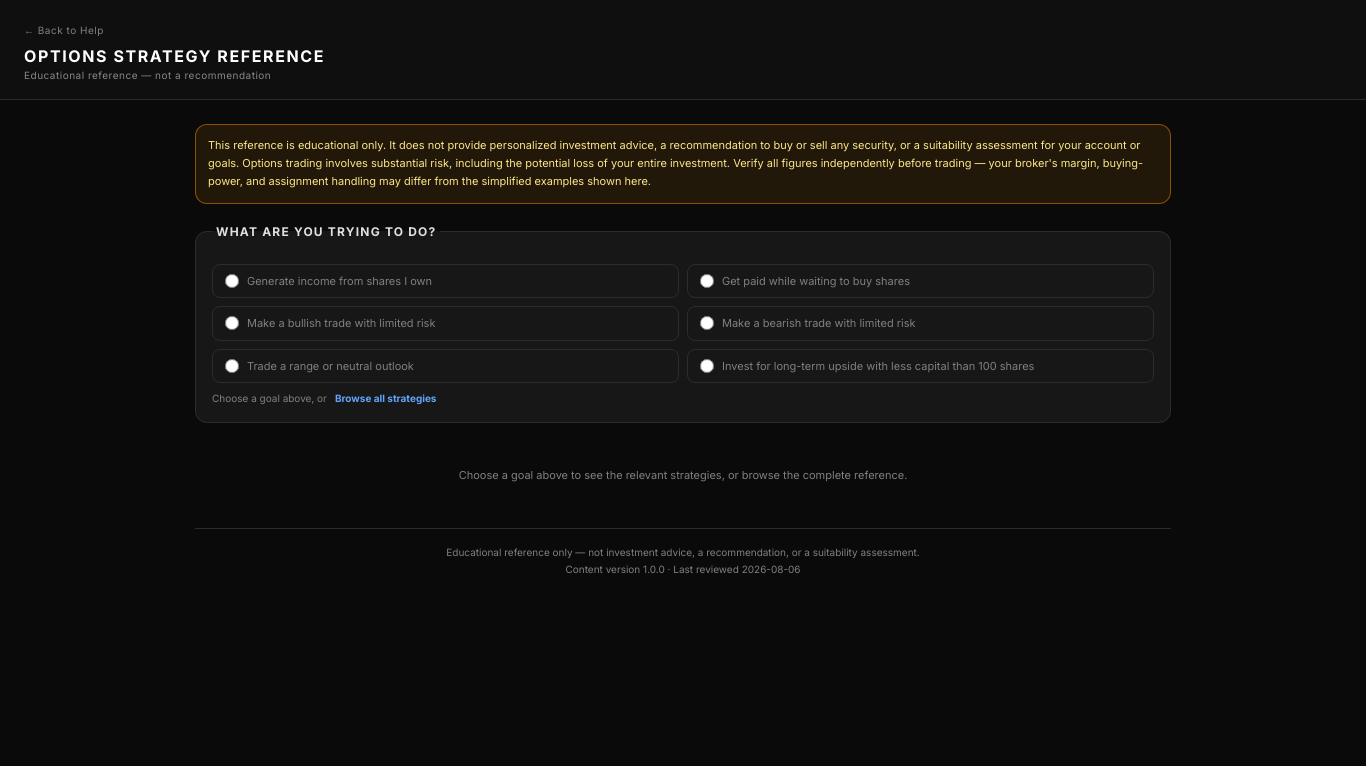
Test: HELP-0001: Options Strategy Reference page › focus restoration for every opening source (corrective pass item 4) › fallback: when the opener control no longer exists at all, focus lands on a documented fallback (comparison heading, results heading, or goal picker)
Click the button "Browse all strategies" at x=386, y=399, box left=335, top=391, right=436, bottom=406
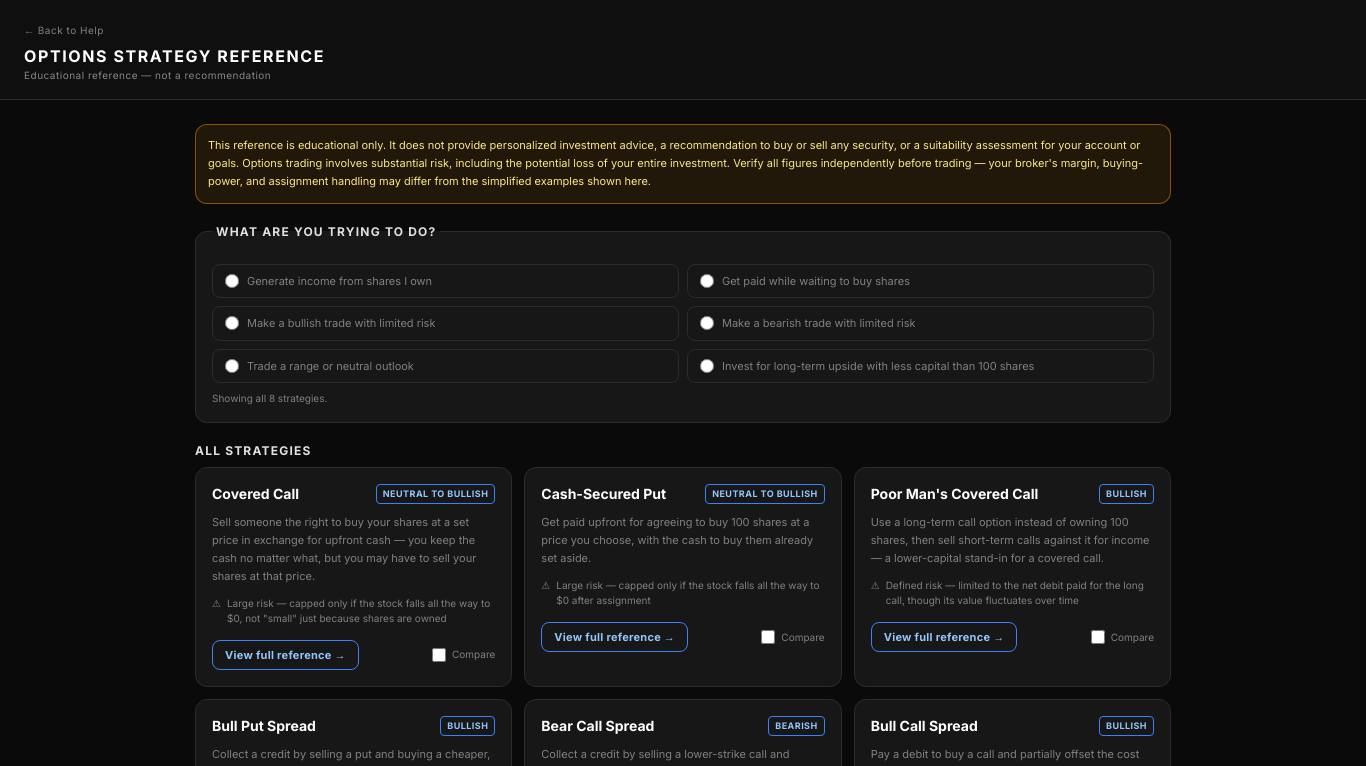
Click the checkbox named "Add Covered Call to comparison" at x=439, y=655, box left=432, top=648, right=446, bottom=662
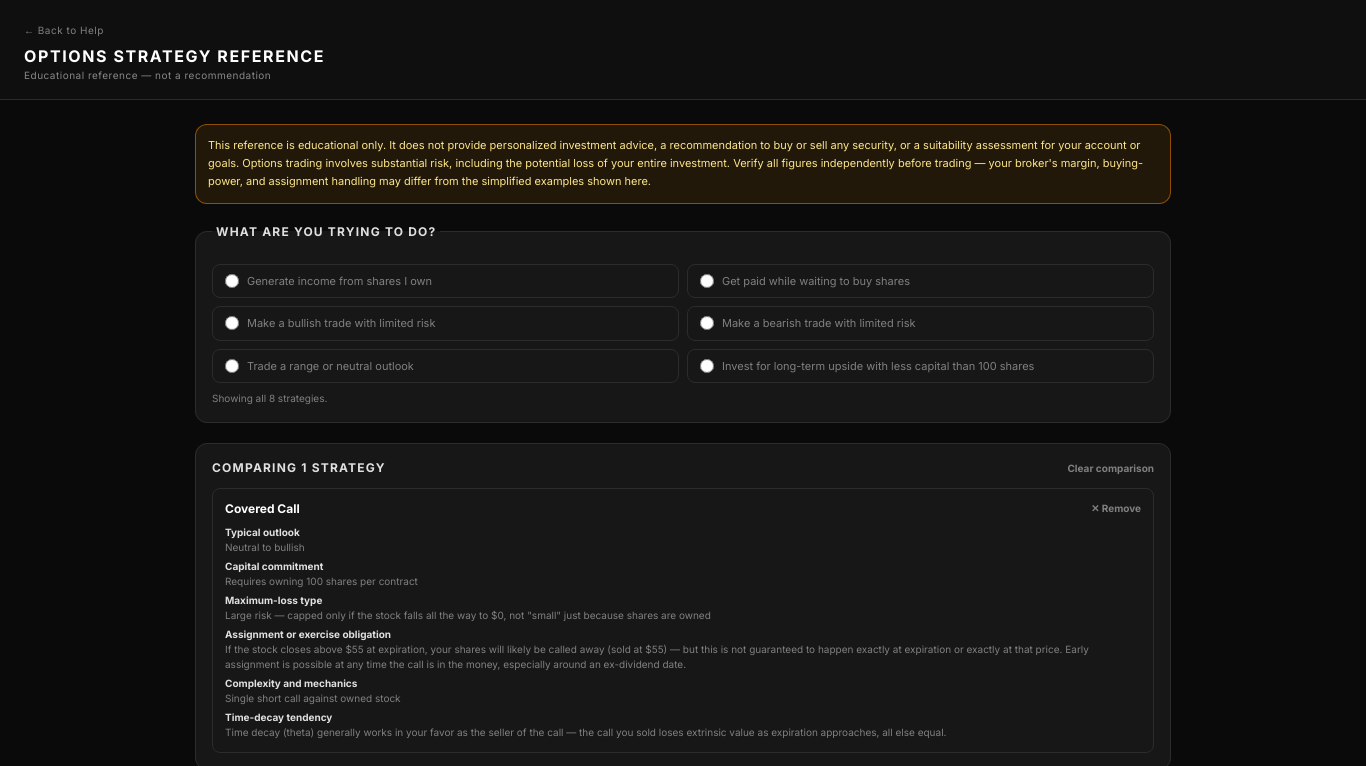
Click the button "Covered Call" at x=262, y=509, box left=225, top=501, right=300, bottom=517
(page scrolled)
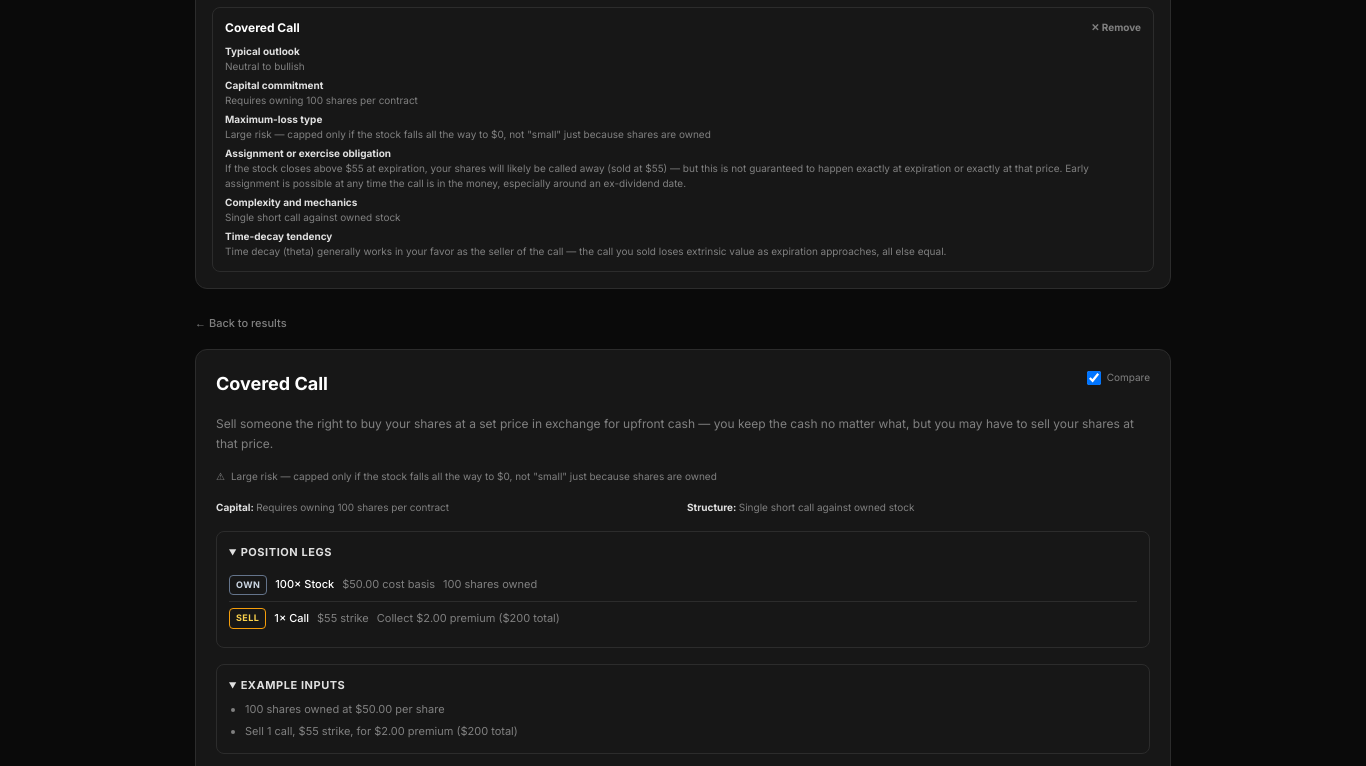
Expected: the heading "Covered Call" is shown, left=216, top=370, right=328, bottom=398
Click the checkbox named "Remove Covered Call from comparison" at x=1094, y=378, box left=1087, top=371, right=1101, bottom=385
(page scrolled)
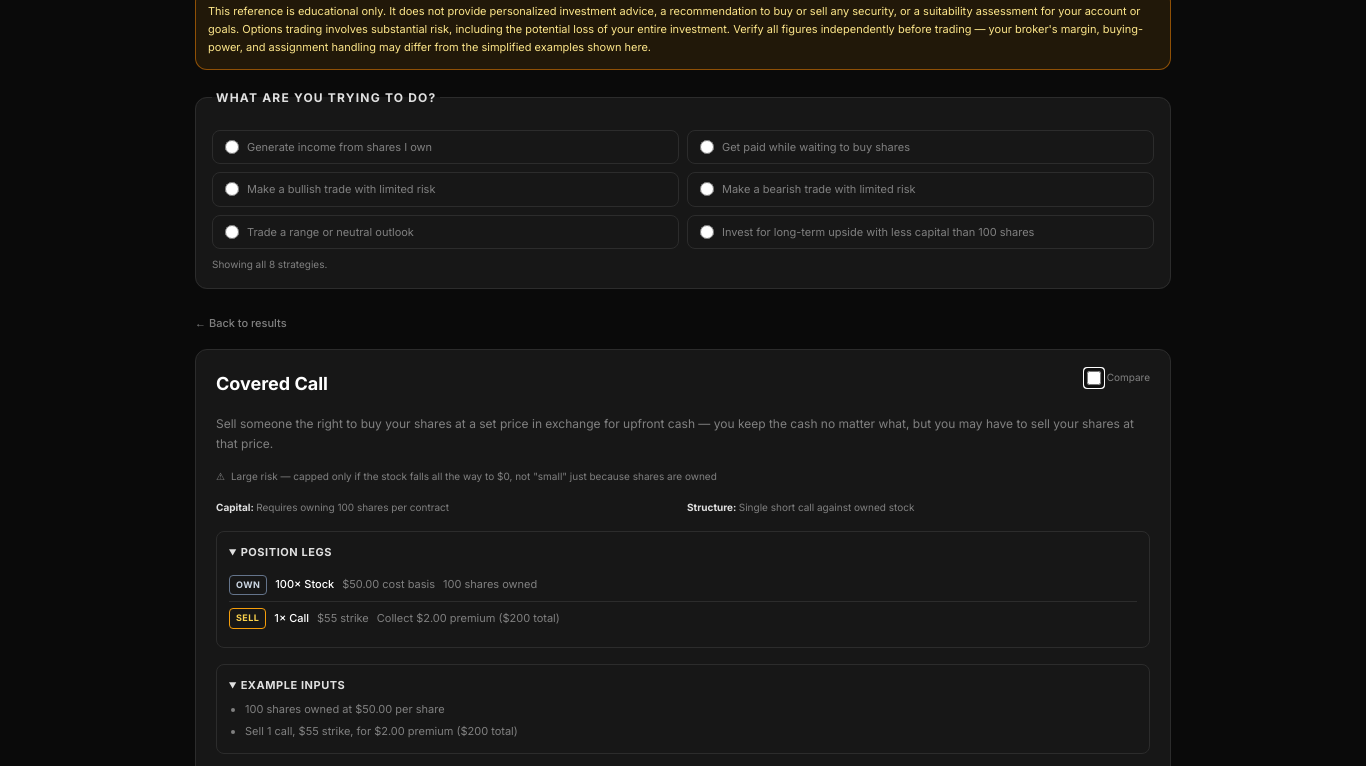
Click the button "← Back to results" at x=241, y=323, box left=195, top=315, right=287, bottom=332
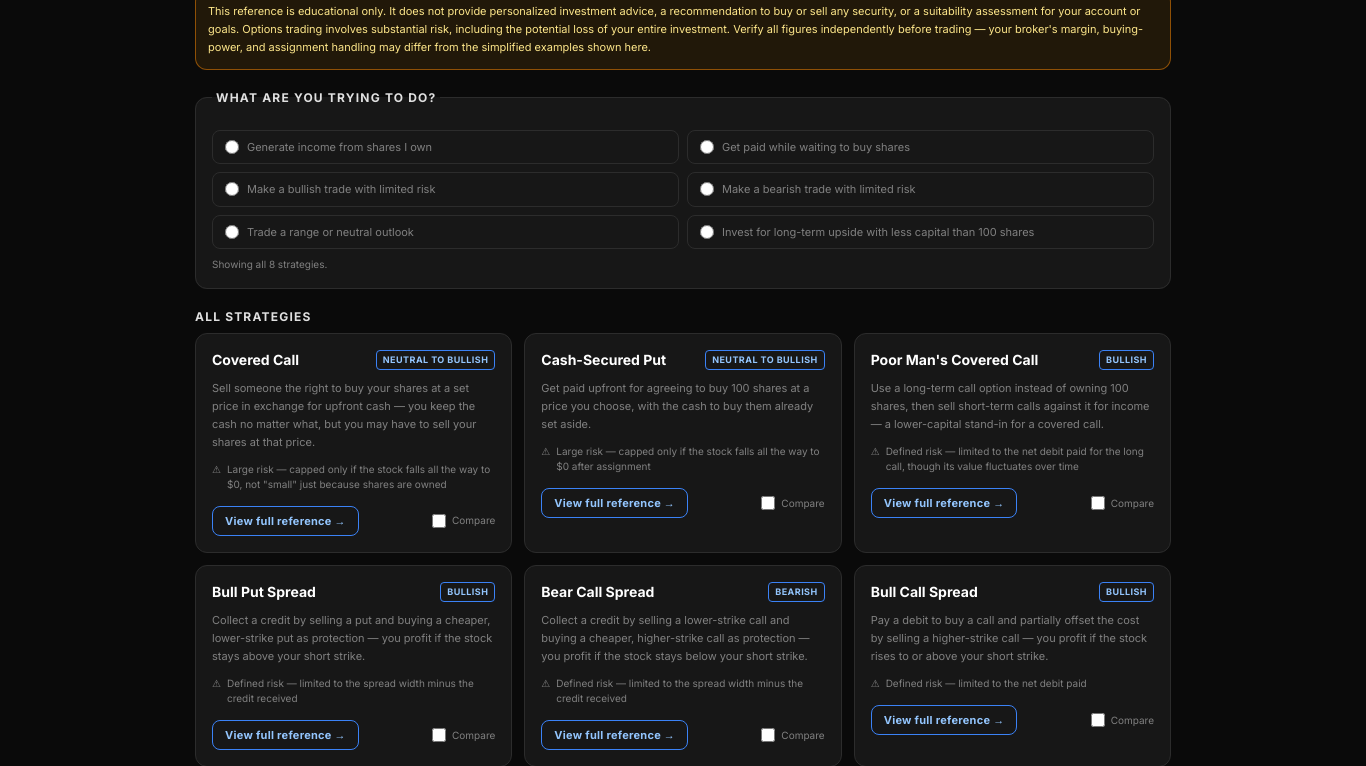
Expected: the heading "All strategies" is shown, left=195, top=309, right=312, bottom=324
